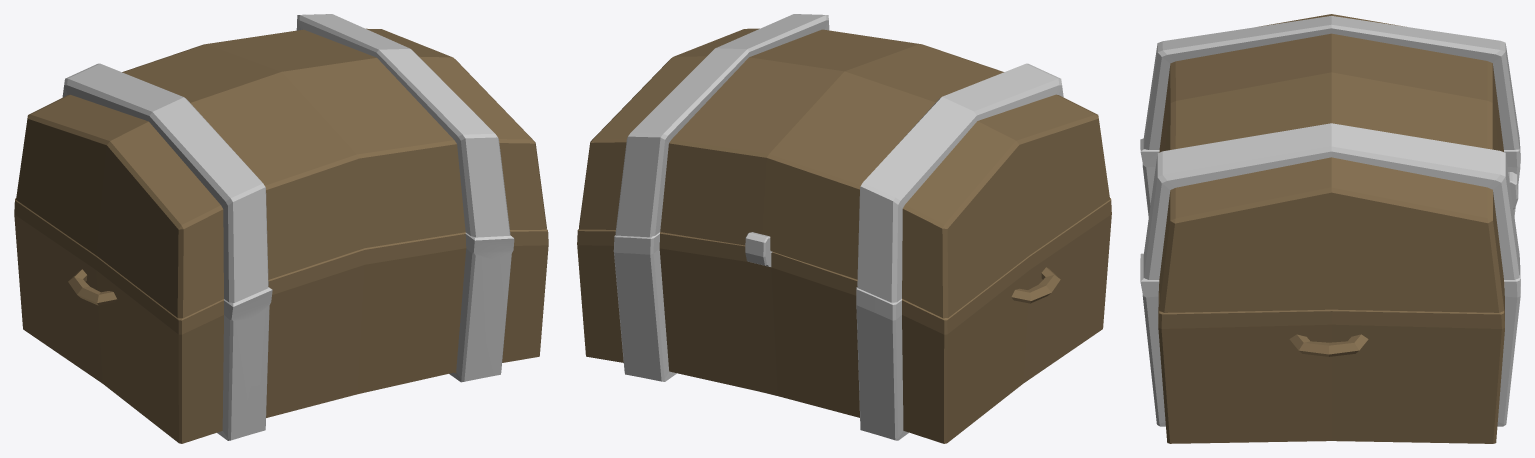
The model's file is Lootchest.fbx.
3 views of the same model, side by side, from view 1: azimuth 30°, elevation 25°; view 2: azimuth 150°, elevation 25°; view 3: azimuth 270°, elevation 25° (orthographic). The views are drawn at different scales.
Visible parts, largest first — view 1: Bovenkant, Onderkant, Chest1_Handvat1; view 2: Bovenkant, Onderkant, Chest1_Handvat1; view 3: Bovenkant, Onderkant, Chest1_Handvat1.
Part boxes in pixels (x1,y1,x2,y2): Bovenkant: [16, 14, 546, 318]; Onderkant: [14, 198, 548, 443]; Chest1_Handvat1: [68, 269, 116, 305]; Bovenkant: [579, 14, 1109, 318]; Onderkant: [577, 198, 1111, 443]; Chest1_Handvat1: [1011, 267, 1060, 303]; Bovenkant: [1143, 14, 1519, 312]; Onderkant: [1140, 138, 1520, 443]; Chest1_Handvat1: [1289, 334, 1368, 356].
Size of the model in its own units: 121 by 77.66 by 93.5.
